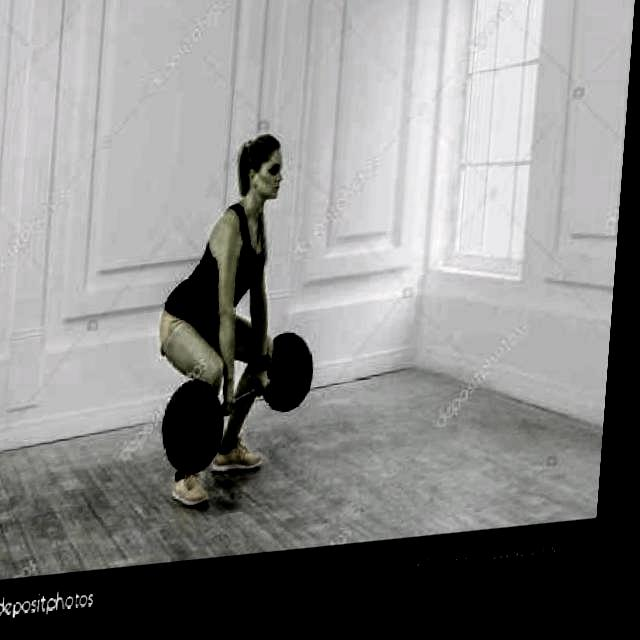barbell: (160, 384, 238, 482)
